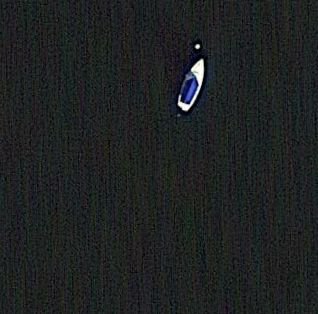boat: (174, 58, 208, 114)
